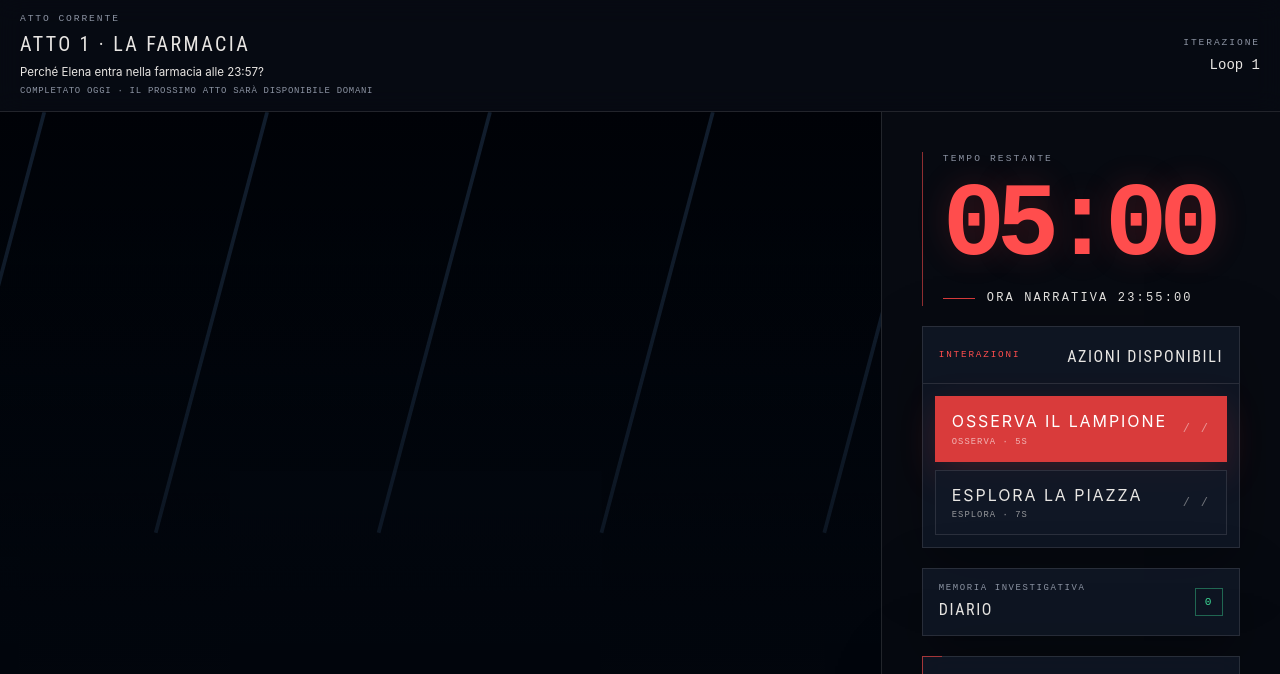
Test: GameplaySession › registra l'anomalia daily con toast, audio e salvataggio immediato
Click the button named "Osserva il lampioneOsserva · 5s" at (1081, 429), box [935,396,1227,462]
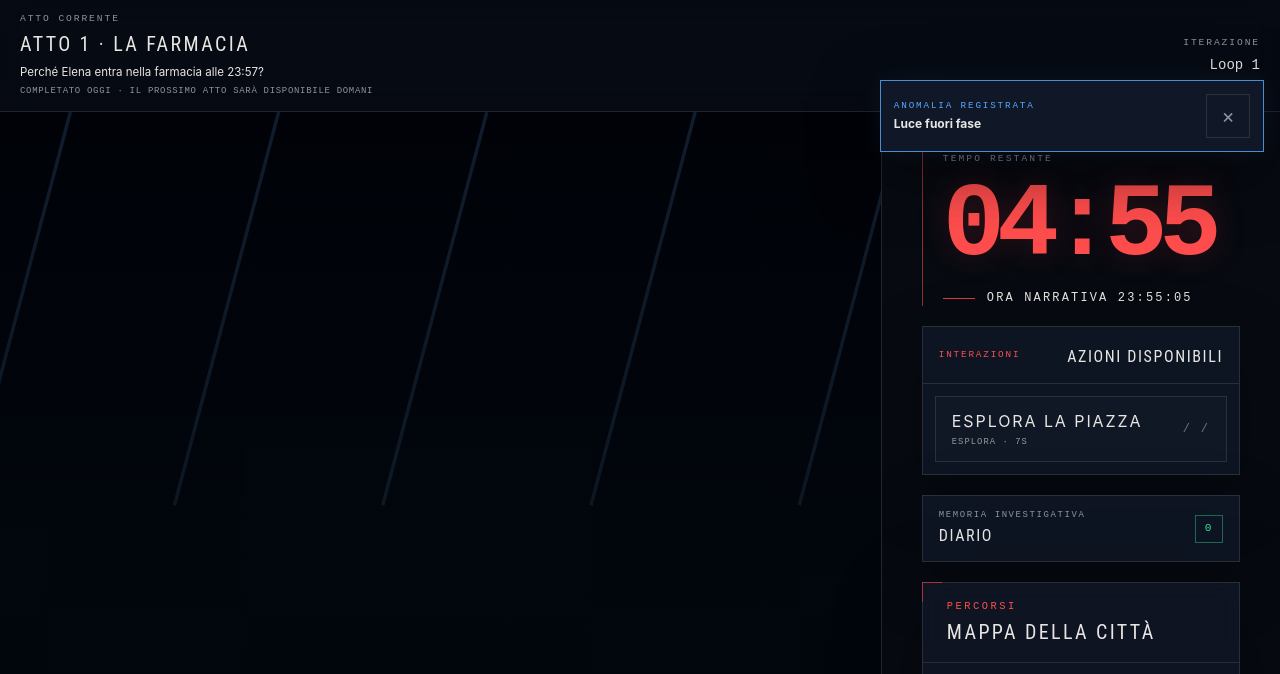
Now the text "Anomalia registrata" is shown, box [894,99,1035,113]
Now the text "Luce fuori fase" is shown, box [894,116,981,131]
Now the button "Osserva il lampione" is gone
